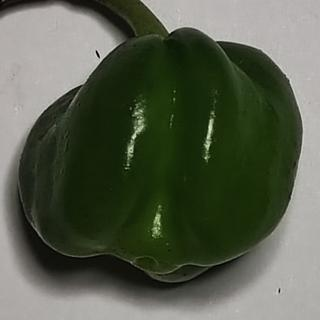Grade-B: (9, 23, 306, 283)
